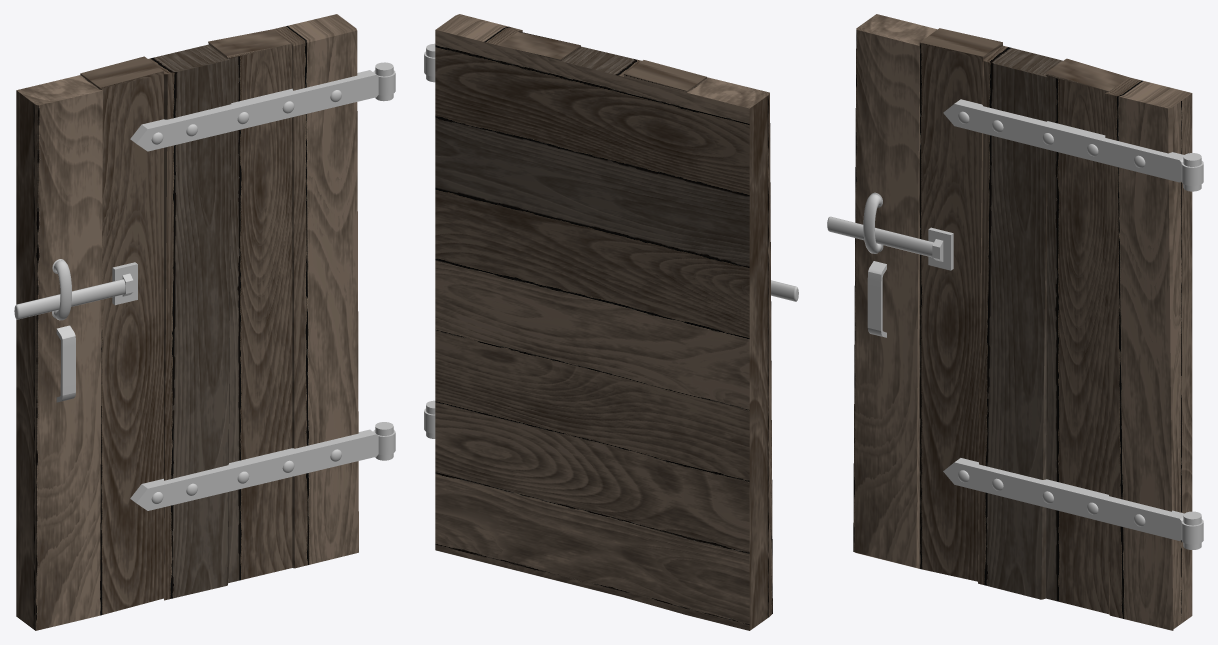
The model's file is SM_Door.fbx.
3 renders of one model, left to right at view 1: azimuth 30°, elevation 25°; view 2: azimuth 150°, elevation 25°; view 3: azimuth 330°, elevation 25°, orthographic.
Parts seen in each view (by area): view 1: SM_Door; view 2: SM_Door; view 3: SM_Door.
Part boxes in pixels (x1=…): SM_Door: x1=14, y1=14, x2=395, y2=630; SM_Door: x1=424, y1=14, x2=798, y2=630; SM_Door: x1=827, y1=14, x2=1203, y2=630.
Bounding box in the file's own units: 165 × 222 × 23.74.
